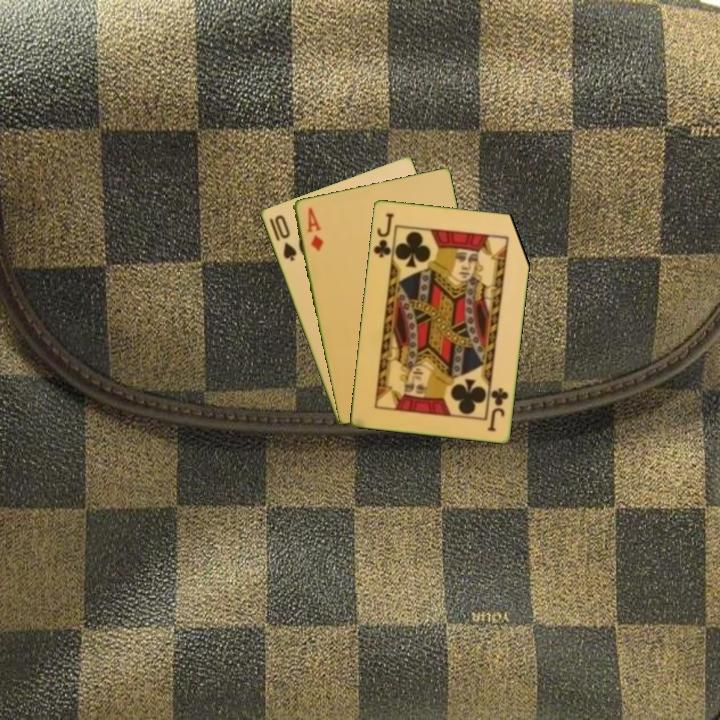10s: (271, 211, 299, 264)
Ad: (303, 204, 326, 254)
Jc: (484, 384, 511, 434), (370, 209, 396, 260)
